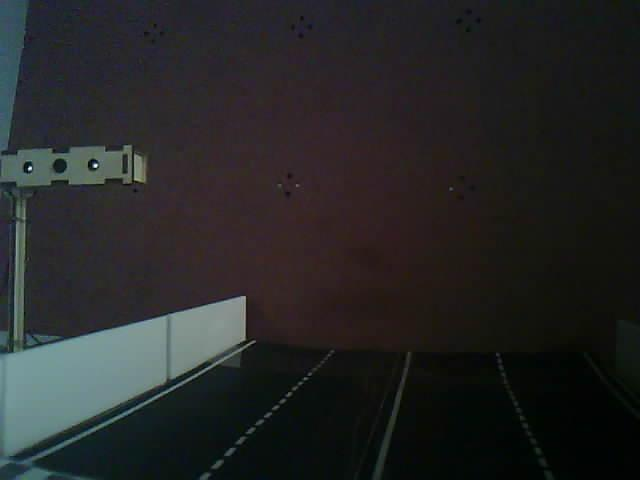crosswalk: (0, 440, 135, 480)
no: (1, 123, 160, 375)
